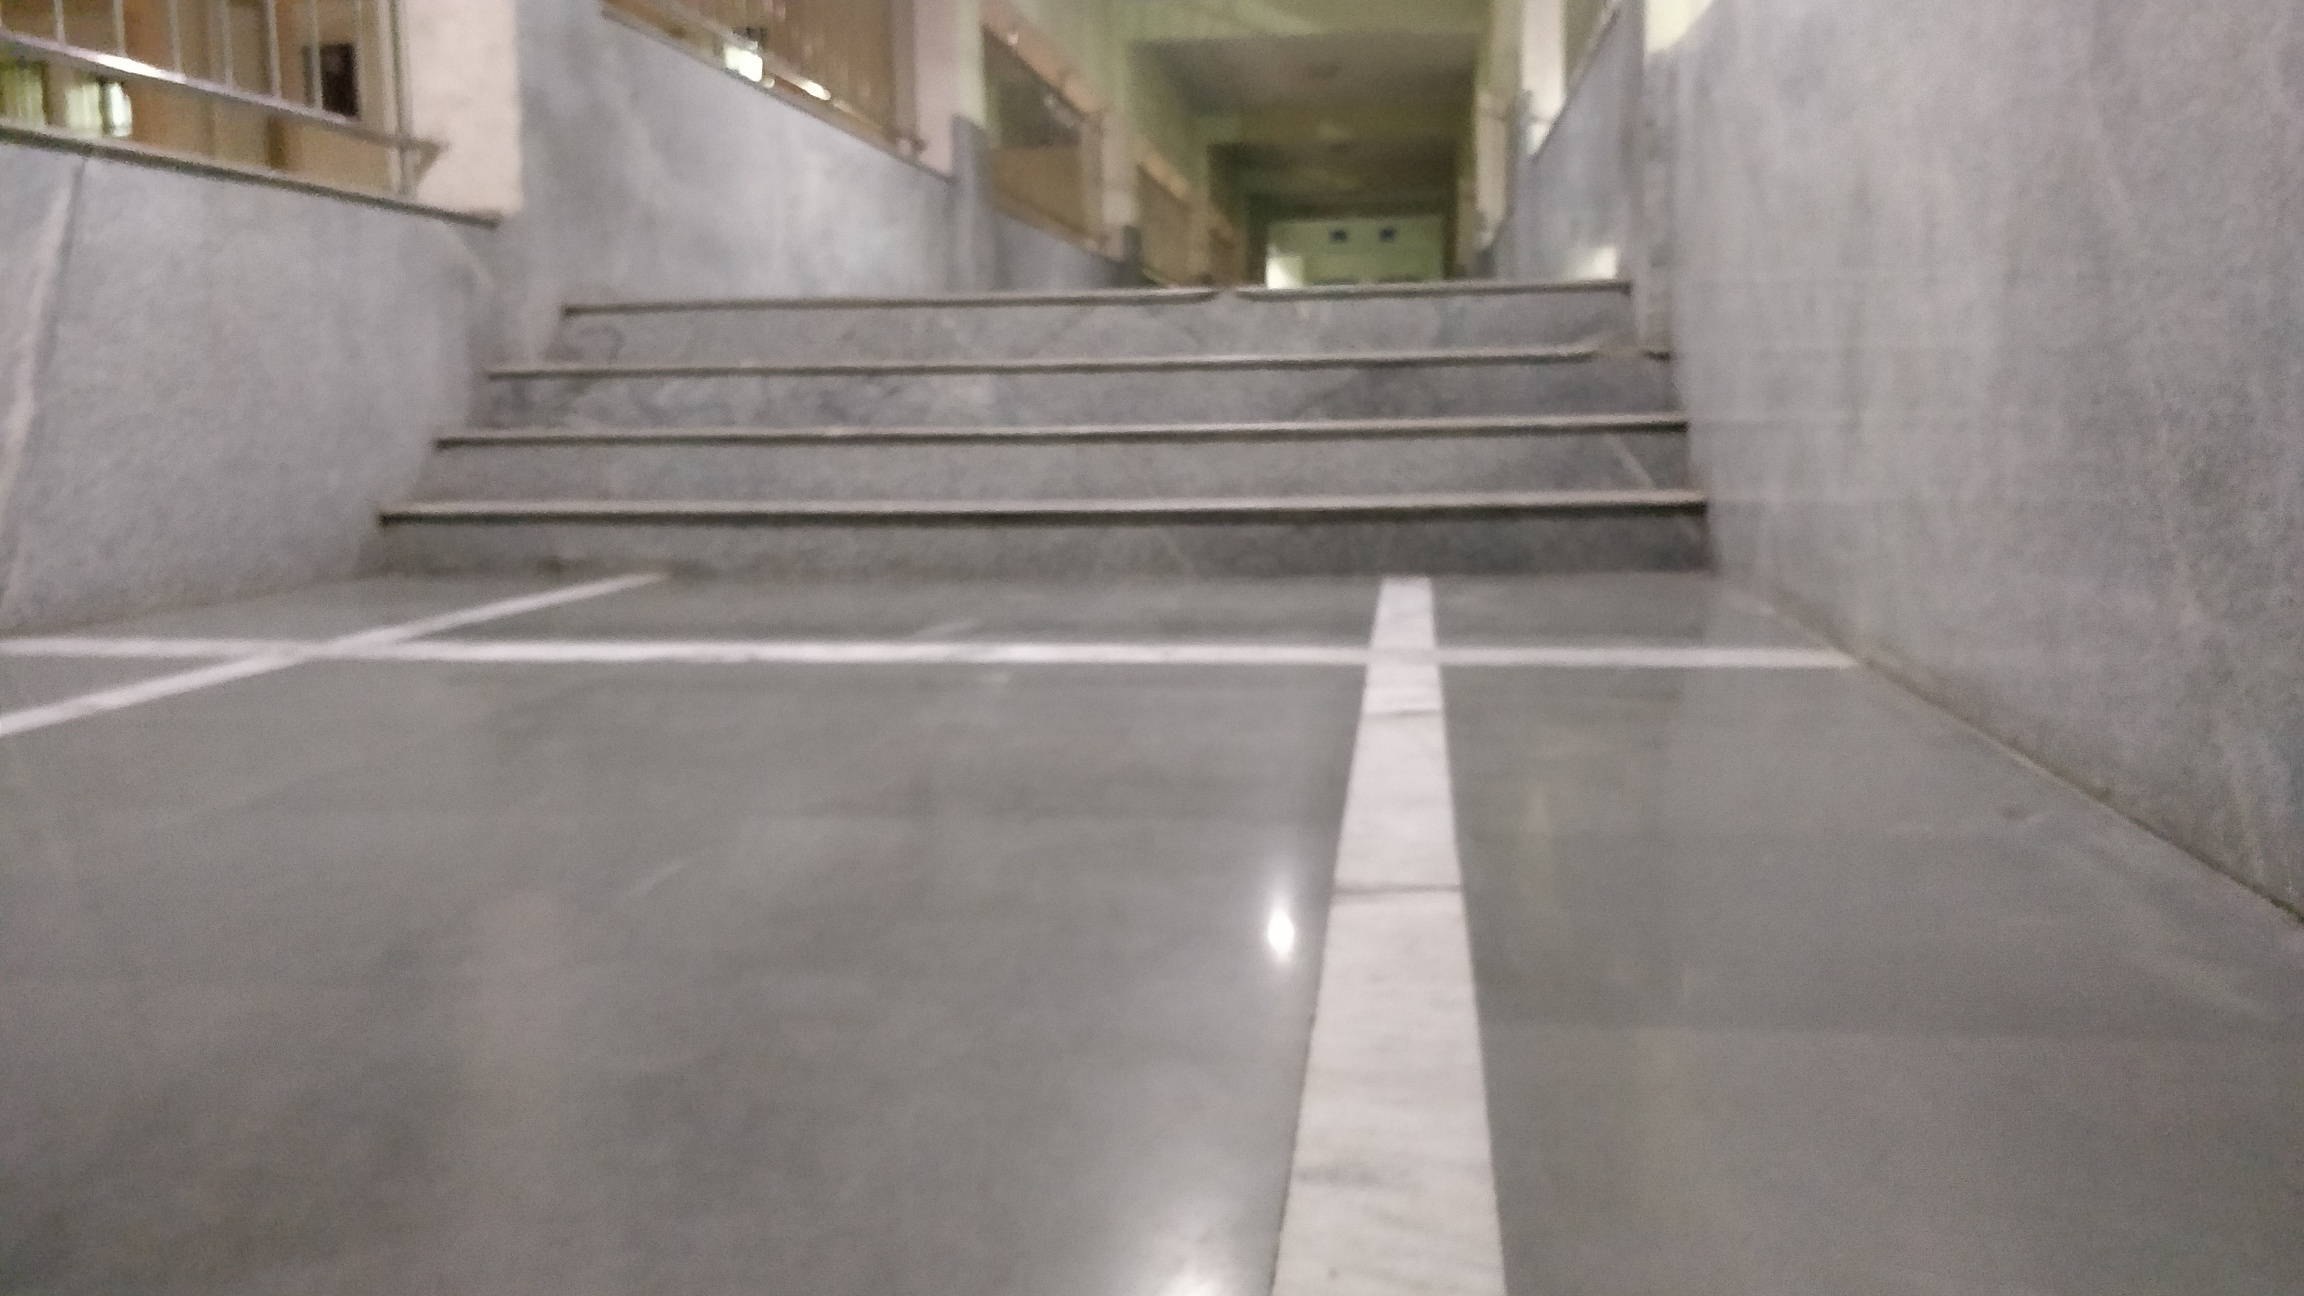stairs_up: (362, 290, 1723, 589)
